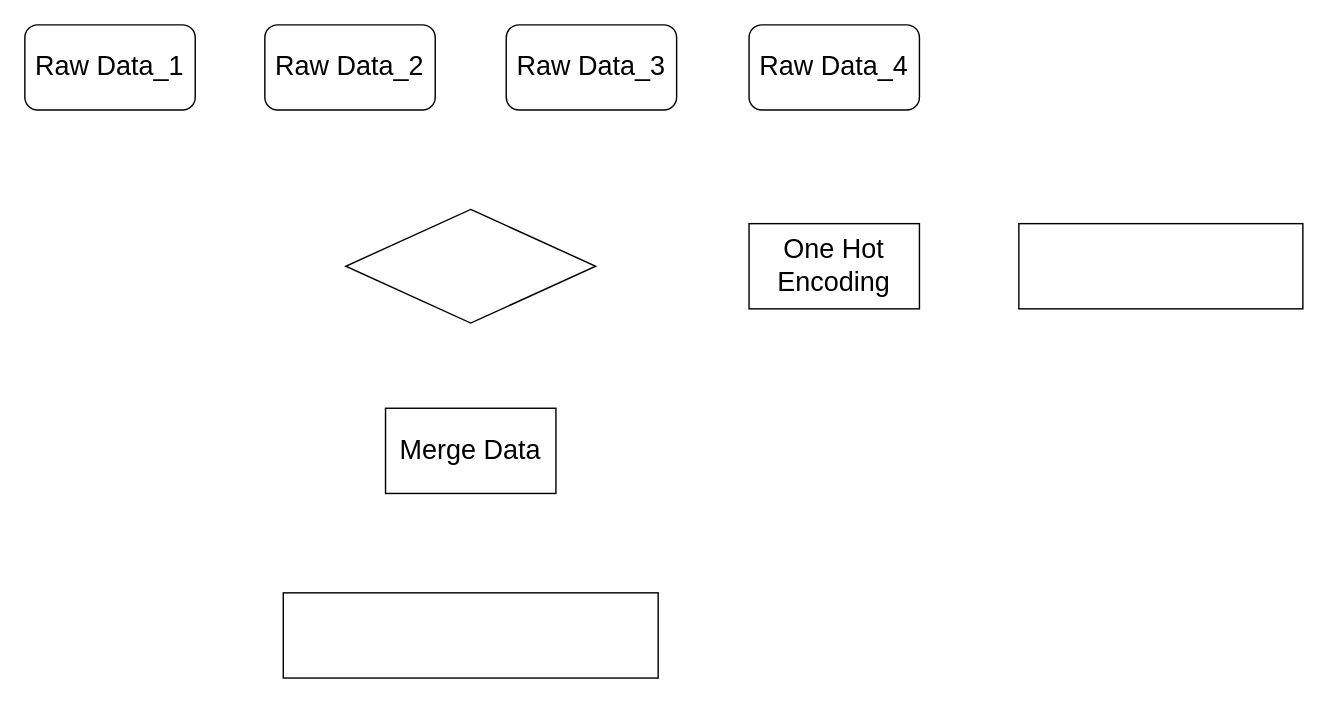
Some shapes in this 1328 by 703 pixel diagram are drawn without their labels. The shapes that lost their labels are listed below. From the top down, each one's centre as x and y in pixels, then its label:
the point at 470,265: MultiLabel
the point at 1160,265: Record Column Name
the point at 470,634: Design five Group of test data
